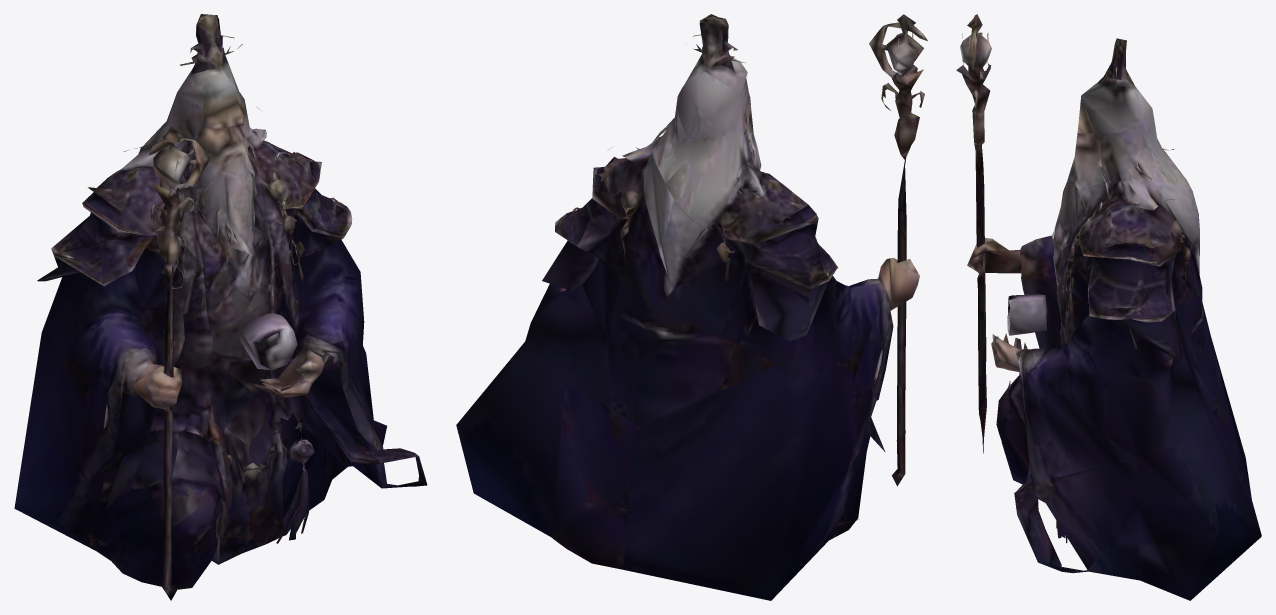
The model's file is npc_sanqing_shangqing.glb.
The picture shows the model from 3 angles, left to right: view 1: azimuth 30°, elevation 25°; view 2: azimuth 150°, elevation 25°; view 3: azimuth 270°, elevation 25°; orthographic projection. The views are drawn at different scales.
Parts seen in each view (by area): view 1: tripo_node_bbbf9da1-586b-465d-84b1-686a7a15680c; view 2: tripo_node_bbbf9da1-586b-465d-84b1-686a7a15680c; view 3: tripo_node_bbbf9da1-586b-465d-84b1-686a7a15680c.
Boxes of the visible parts, left/top/right/bottom form: tripo_node_bbbf9da1-586b-465d-84b1-686a7a15680c: left=14, top=14, right=427, bottom=600; tripo_node_bbbf9da1-586b-465d-84b1-686a7a15680c: left=456, top=14, right=927, bottom=600; tripo_node_bbbf9da1-586b-465d-84b1-686a7a15680c: left=956, top=14, right=1261, bottom=600.
Size of the model in its own units: 0.6873 by 0.9674 by 0.5667.
1 material, 1 textured.
